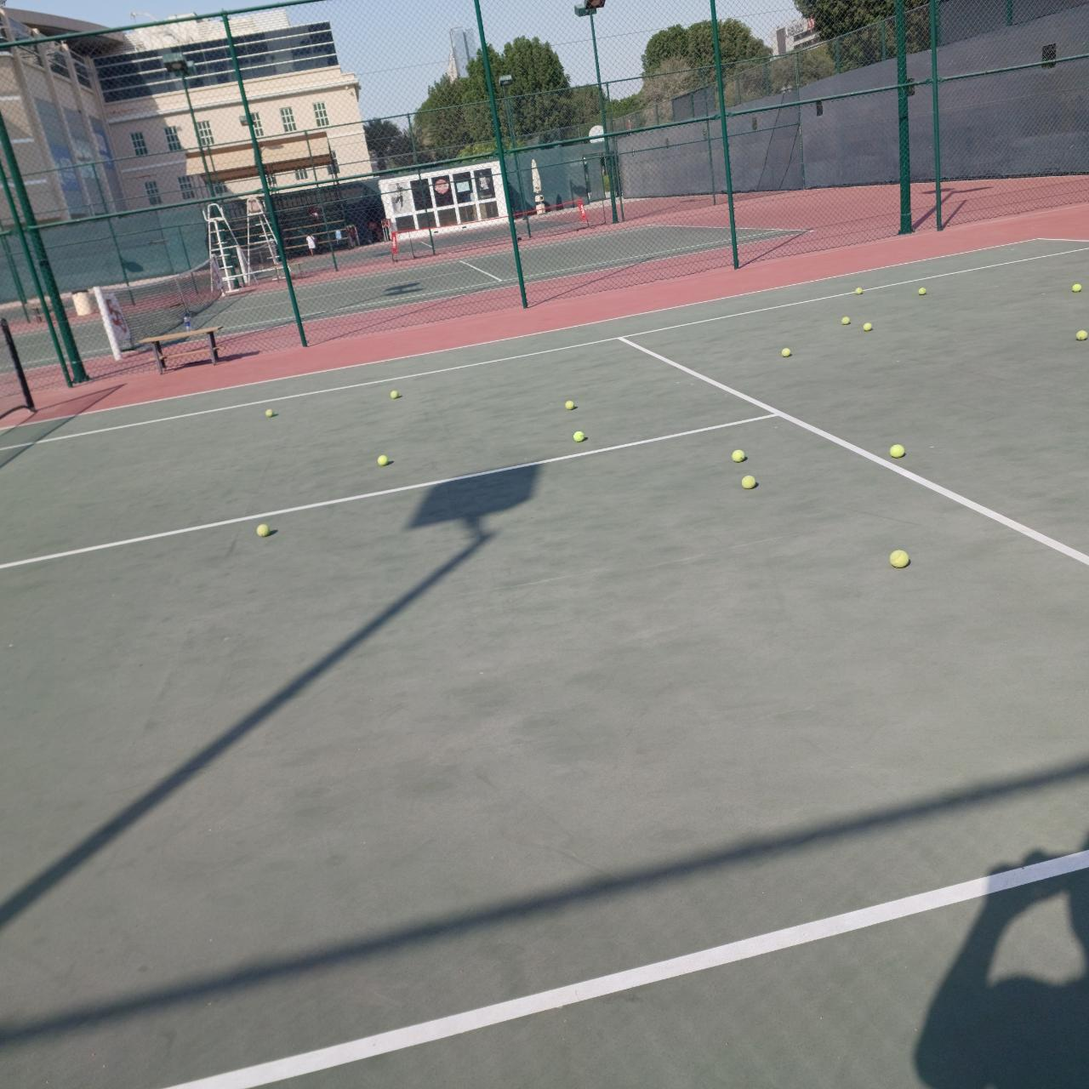tennis-ball: (889, 548, 910, 568), (740, 473, 758, 490), (889, 443, 905, 459), (730, 448, 746, 463), (254, 522, 268, 536), (376, 453, 390, 465), (563, 398, 576, 410), (263, 406, 275, 418), (860, 321, 873, 332), (572, 431, 585, 442), (780, 346, 792, 357), (389, 388, 401, 399), (840, 315, 851, 326), (1076, 330, 1087, 340), (1072, 283, 1082, 293), (918, 287, 928, 296), (855, 287, 863, 295)
